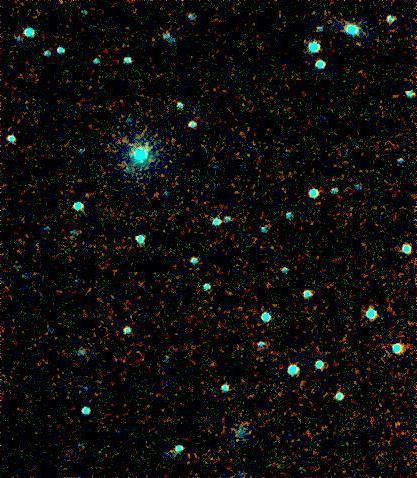star: (346, 27, 376, 57)
